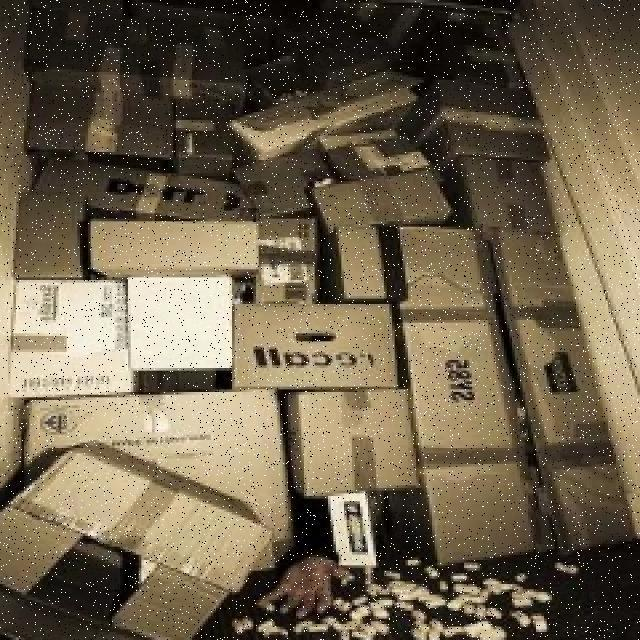box: (403, 213, 640, 567), (18, 387, 280, 594), (1, 442, 267, 640), (234, 72, 418, 168), (0, 274, 131, 400), (227, 292, 396, 386), (14, 76, 181, 160), (78, 208, 267, 278), (10, 22, 238, 78), (292, 388, 413, 488), (404, 79, 534, 162), (17, 168, 254, 212), (132, 274, 236, 368), (314, 208, 404, 312), (310, 174, 444, 236), (434, 0, 526, 88), (0, 186, 91, 274), (232, 212, 324, 296), (238, 136, 329, 218), (457, 157, 546, 231), (278, 11, 391, 69), (324, 129, 434, 182), (322, 486, 386, 566)
